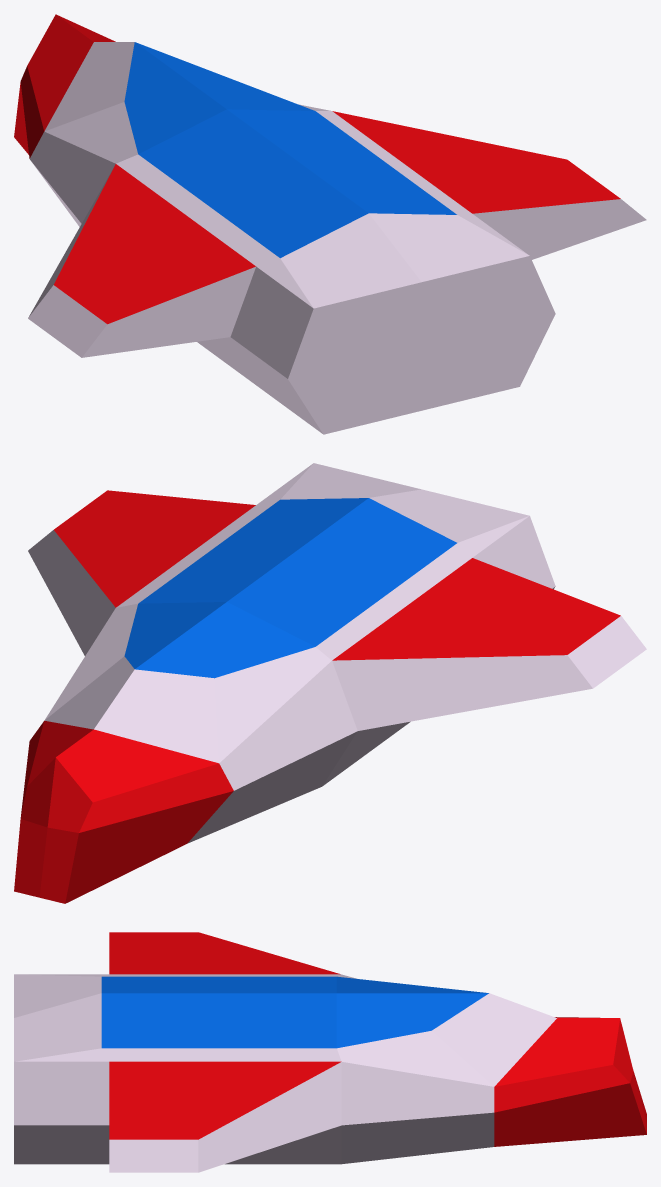
The model's file is player.fbx.
The picture shows the model from 3 angles, top to bottom: view 1: azimuth 30°, elevation 25°; view 2: azimuth 150°, elevation 25°; view 3: azimuth 270°, elevation 25°; orthographic projection. The views are drawn at different scales.
Parts seen in each view (by area): view 1: ship; view 2: ship; view 3: ship.
Boxes of the visible parts, x1,y1,x2,y2 form: ship: [14, 14, 646, 434]; ship: [14, 463, 646, 903]; ship: [14, 932, 646, 1172].
Size of the model in its own units: 354 by 94.98 by 415.
